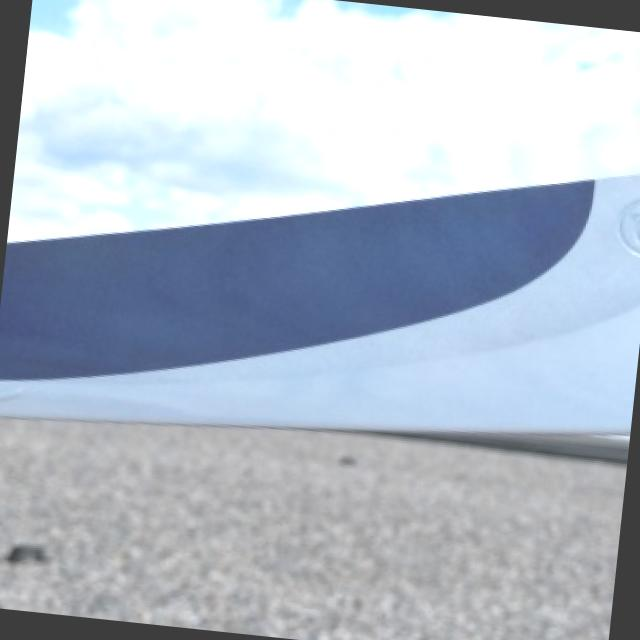healthy: (0, 173, 640, 430)
